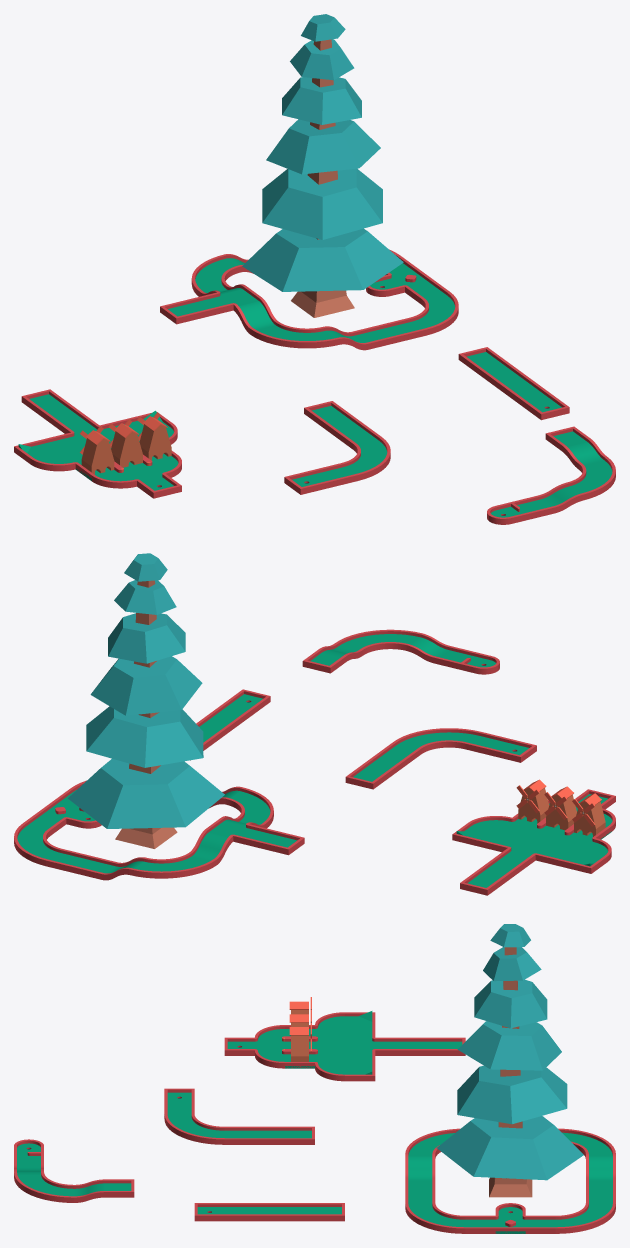
3 views of the same model, one above another, from view 1: azimuth 30°, elevation 25°; view 2: azimuth 150°, elevation 25°; view 3: azimuth 270°, elevation 25° (orthographic). The views are drawn at different scales.
Visible parts, largest first — view 1: tree_pineRoundB, bend_large (×5), building_windmill (×3), end_hole (×3), slope_smoothA (×2), slope_smoothB, end; view 2: tree_pineRoundB, bend_large (×5), straight (×11), end (×4), building_windmill (×3), corner_innerDouble (×3), end_hole (×2), corner_hill (×2), side (×2), slope_smoothB, slope_smoothA, straight_gap (+3 smaller); view 3: tree_pineRoundB, bend_large (×6), straight (×9), end (×4), end_hole (×3), slope_smoothB (×2), corner_hill (×2), slope_smoothA, building_windmill, end_roundHole, straight_gap, side.
Boxes of the visible parts, <box> form: tree_pineRoundB: <box>242,14,403,317</box>; bend_large (×5): <box>191,254,615,500</box>; building_windmill (×3): <box>82,416,171,466</box>; end_hole (×3): <box>137,395,569,498</box>; slope_smoothA (×2): <box>538,438,606,513</box>; slope_smoothB: <box>233,297,278,333</box>; end: <box>160,299,204,324</box>; tree_pineRoundB: <box>68,553,224,848</box>; bend_large (×5): <box>14,629,480,878</box>; straight (×11): <box>23,701,535,883</box>; end (×4): <box>261,649,503,895</box>; building_windmill (×3): <box>518,779,605,828</box>; corner_innerDouble (×3): <box>496,817,594,852</box>; end_hole (×2): <box>227,689,536,762</box>; corner_hill (×2): <box>452,822,607,873</box>; side (×2): <box>480,832,578,867</box>; slope_smoothB: <box>189,829,233,864</box>; slope_smoothA: <box>406,633,449,663</box>; straight_gap: <box>434,646,477,669</box>; tree_pineRoundB: <box>437,924,583,1197</box>; bend_large (×6): <box>14,1114,615,1233</box>; straight (×9): <box>224,1037,555,1233</box>; end (×4): <box>104,1037,465,1221</box>; end_hole (×3): <box>164,1037,254,1221</box>; slope_smoothB (×2): <box>405,1154,615,1180</box>; corner_hill (×2): <box>345,1011,375,1081</box>; slope_smoothA: <box>74,1179,104,1202</box>; building_windmill: <box>289,1027,308,1056</box>; end_roundHole: <box>495,1203,525,1218</box>; straight_gap: <box>14,1152,43,1167</box>; side: <box>345,1025,375,1040</box>.
Size of the model in its own units: 17 by 9.57 by 20.
